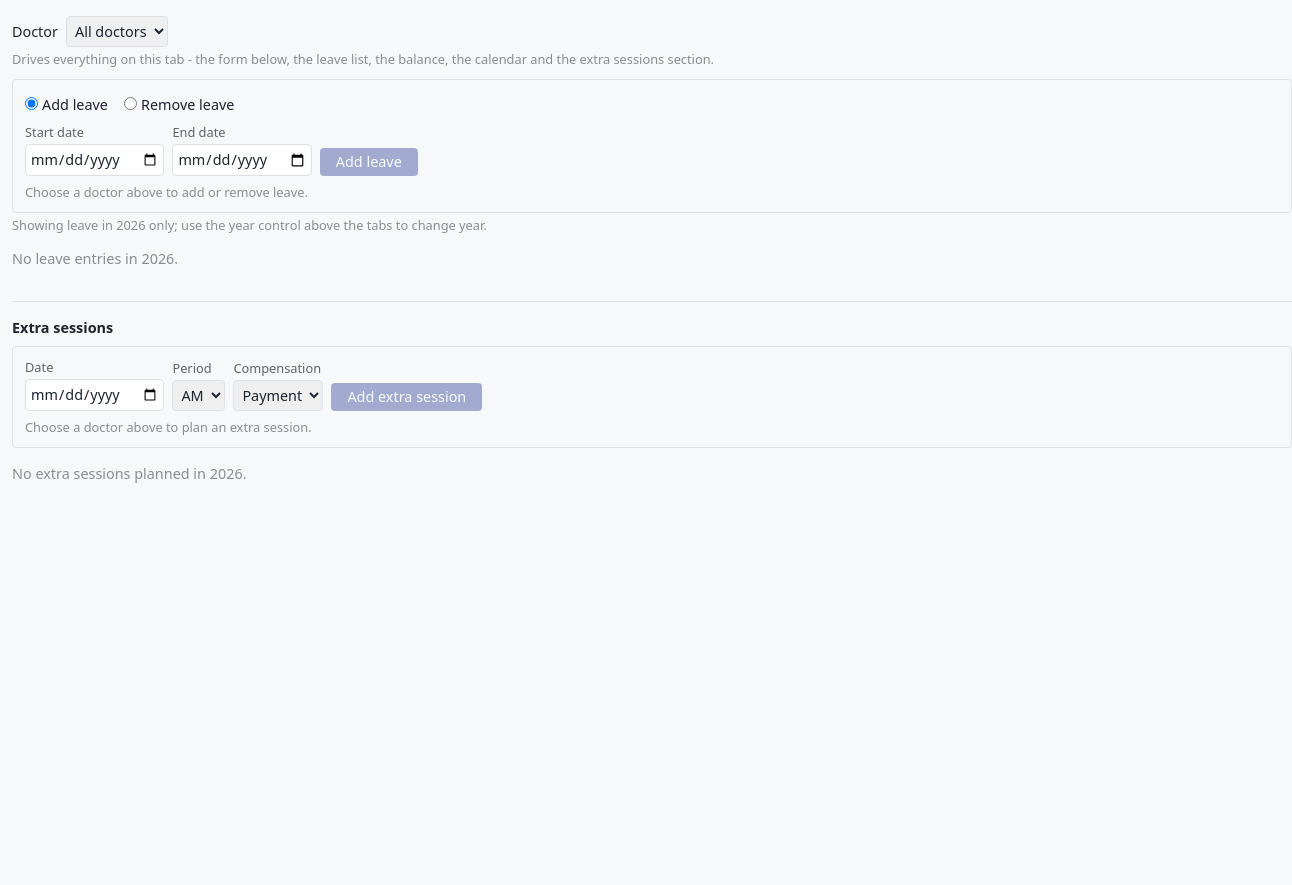
Scenario: LeavePage › add mode › reports a failed segment per segment alongside what did succeed
Select "AB" in the dropdown labelled "Doctor" at [117, 32], box [66,16,168,47]
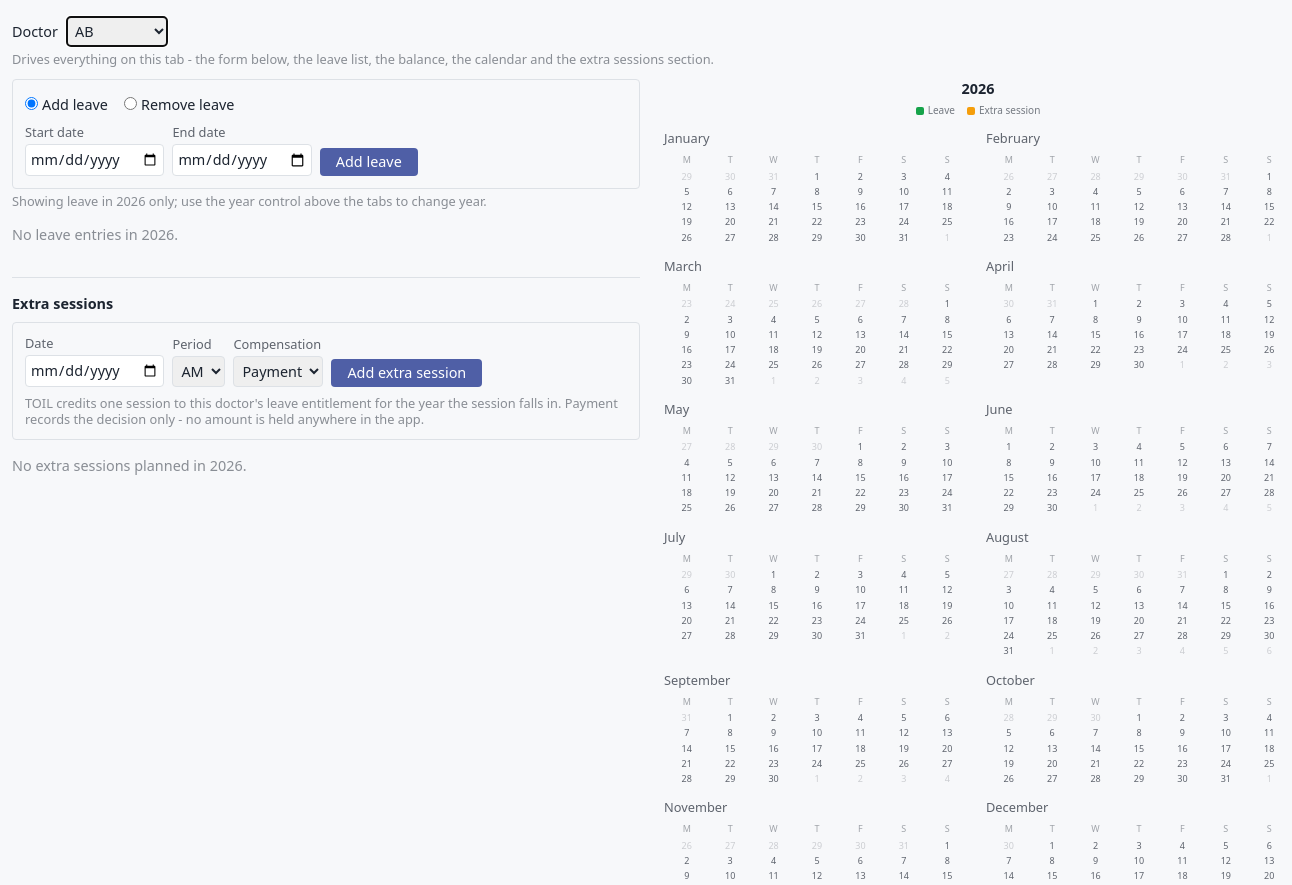
Type "2026-07-13" into the date field labelled "Start date".
click(95, 160); type("2026-07-13")  # box [25,144,164,176]
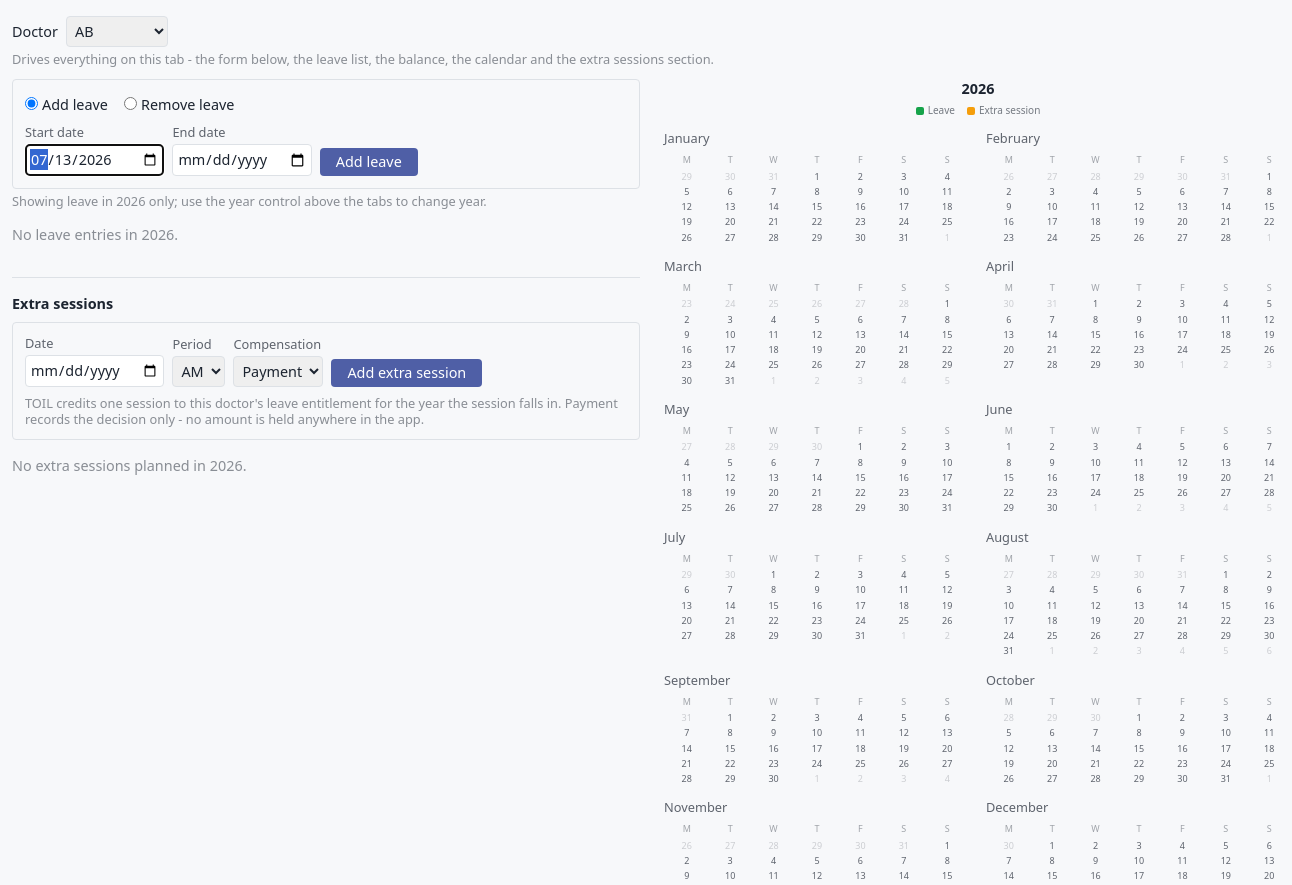
Type "2026-07-17" into the date field labelled "End date".
click(242, 160); type("2026-07-17")  # box [172,144,312,176]
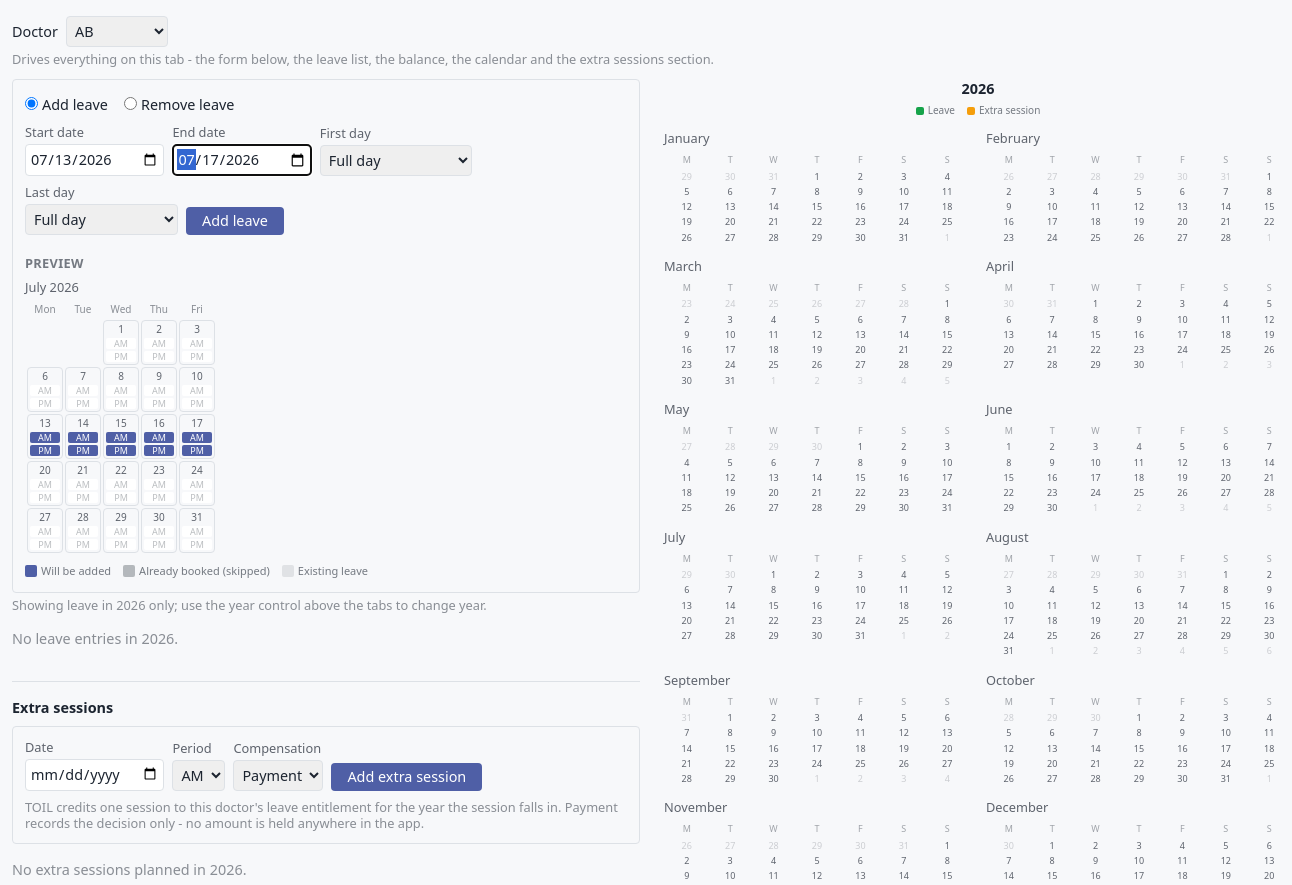
Select "Half day (AM only)" in the dropdown labelled "Last day" at [102, 220], box [25,204,178,235]
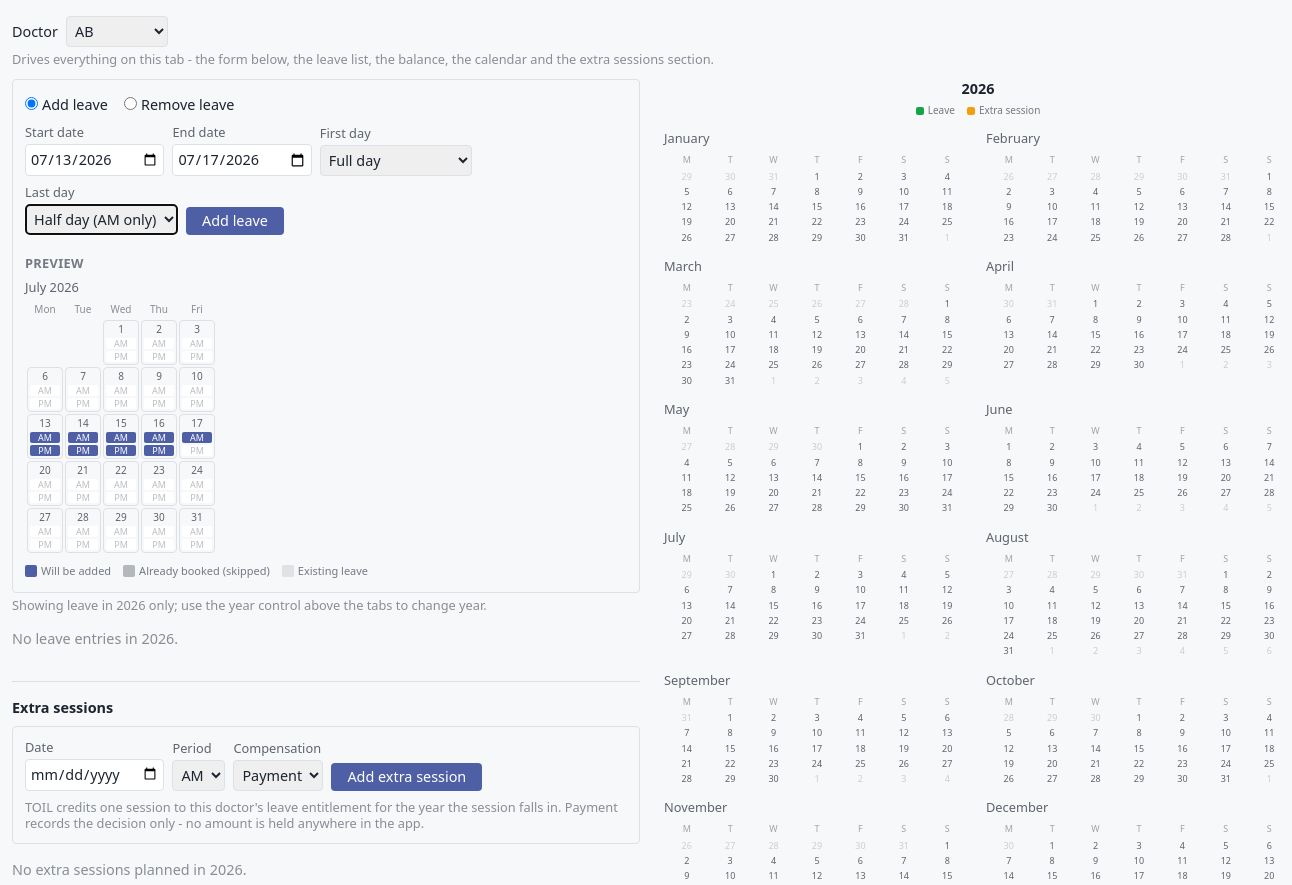
Click the button "Add leave".
click(235, 221)  # box [186,207,284,235]
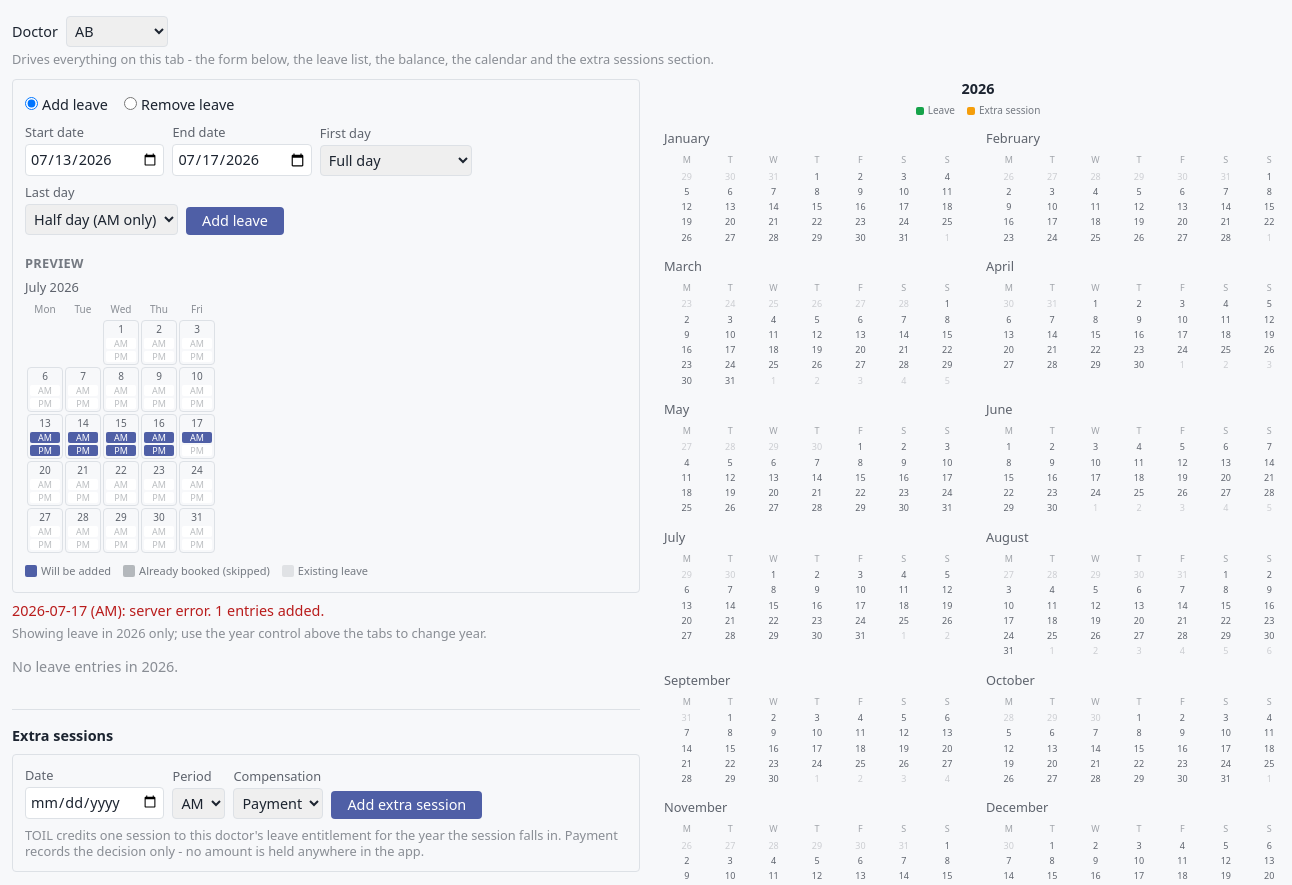
Check: the text "2026-07-17 (AM): server error. 1 entries added." is shown, box [12,600,324,620]
